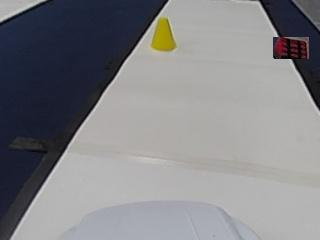cone: (151, 18, 176, 51)
